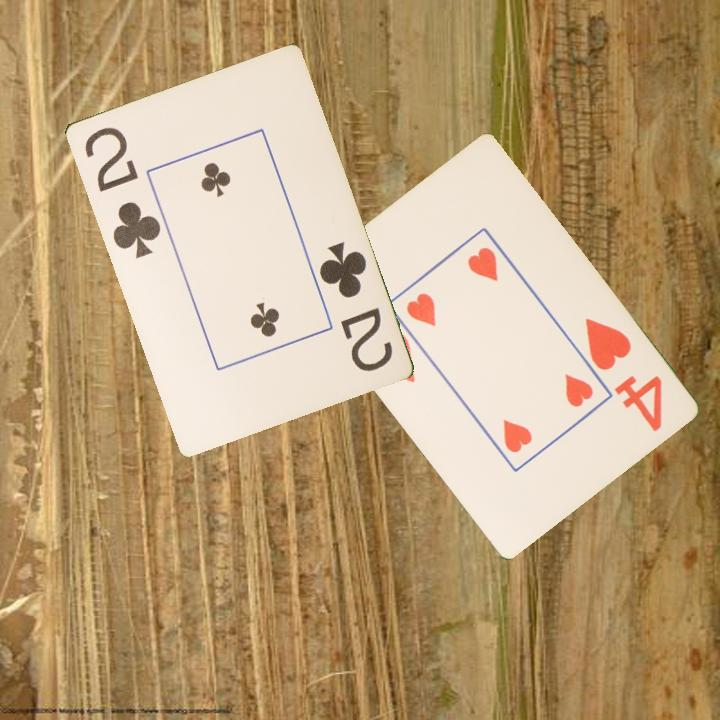2c: (80, 123, 164, 261), (315, 237, 395, 375)
4h: (580, 314, 665, 435)
